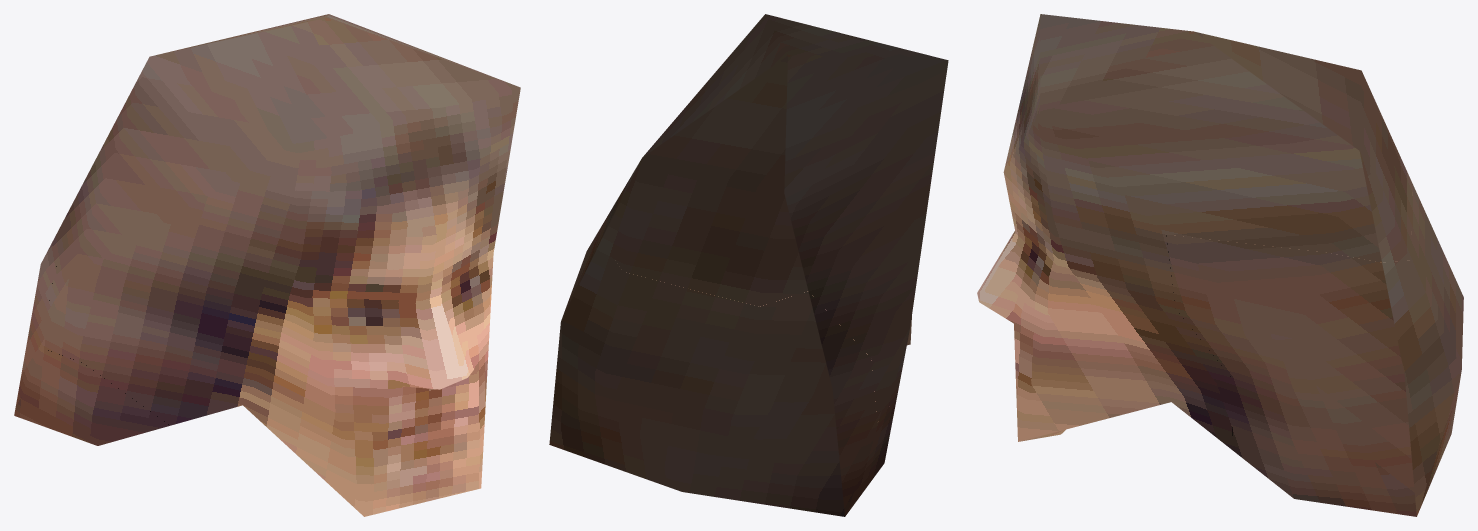
Rendered from CheadvivienZ.obj.
The picture shows the model from 3 angles, left to right: view 1: azimuth 30°, elevation 25°; view 2: azimuth 150°, elevation 25°; view 3: azimuth 270°, elevation 25°; orthographic projection. The views are drawn at different scales.
Bounding box in the file's own units: 210 × 219 × 238.
Materials: 1 (1 with a texture image).
